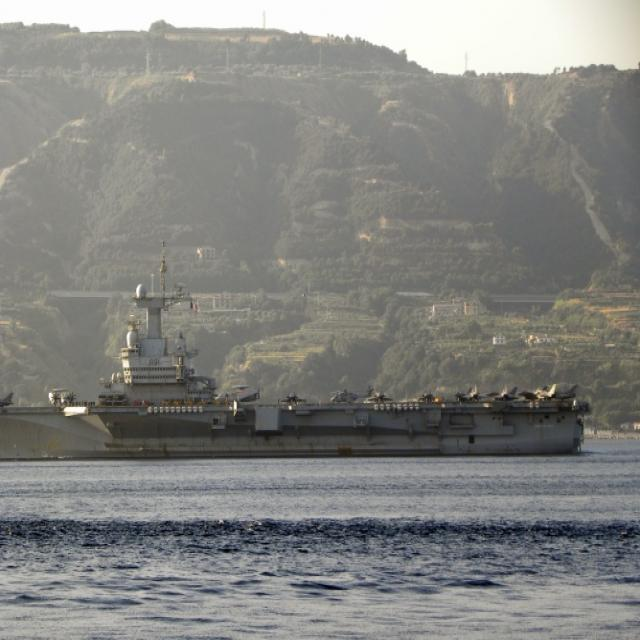Portanaves: (1, 234, 598, 467)
